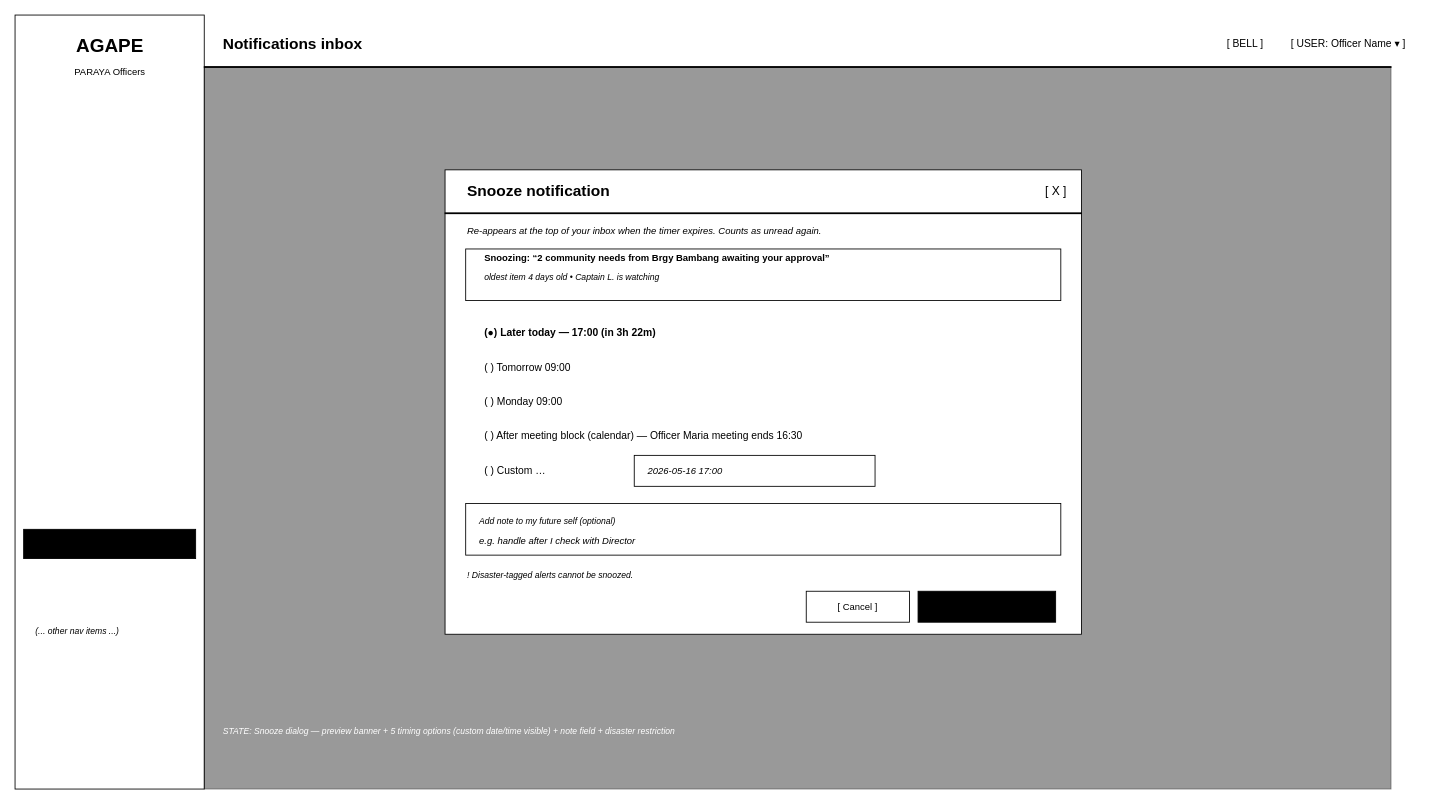
Image size: 1441x804. Some labels were removed from this diagram. The shapes that lost their labels are listed below. From the top down, each one's centre as x and y in pixels, then its label:
At (109,543): "[x] Notifications".
At (986,606): "[ Snooze ]".
